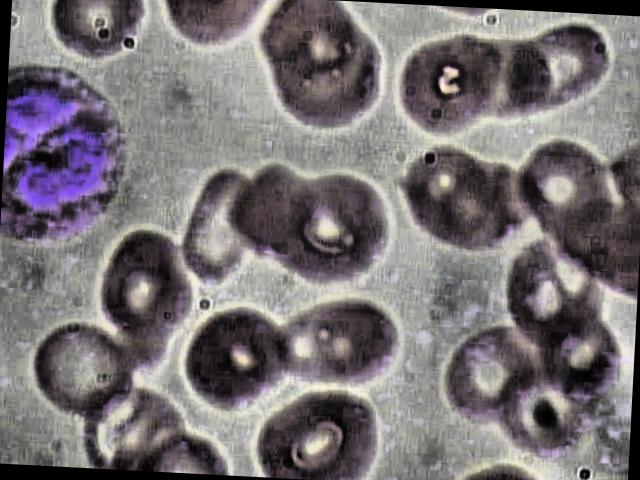RBC: (258, 162, 402, 293), (276, 296, 405, 401), (92, 220, 194, 348), (252, 384, 382, 480), (394, 30, 504, 142), (182, 306, 293, 412), (26, 318, 136, 424), (258, 0, 368, 103), (182, 165, 262, 293), (439, 326, 542, 424), (516, 138, 618, 236), (535, 312, 630, 404), (46, 0, 150, 68)
WBC: (0, 56, 131, 253)
